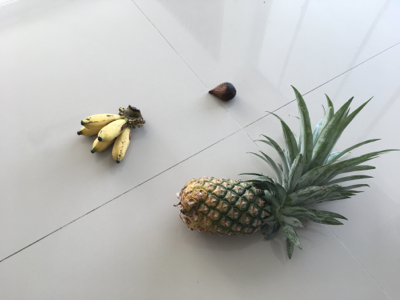banana: (76, 104, 145, 164)
pineapple: (178, 88, 397, 253)
snake fruit: (209, 82, 237, 103)
